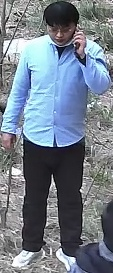phone: (56, 22, 112, 95)
